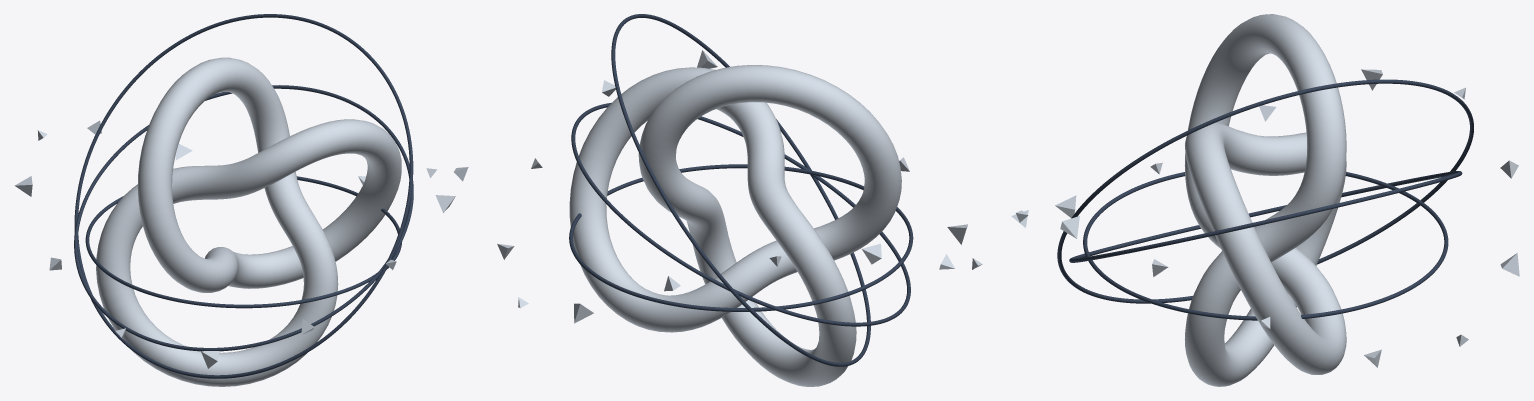
Rendered from atelier-core.glb.
3 renders of one model, left to right at view 1: azimuth 30°, elevation 25°; view 2: azimuth 150°, elevation 25°; view 3: azimuth 270°, elevation 25°, orthographic. The views are drawn at different scales.
Visible parts, largest first — view 1: knot, orbit-2, orbit-1, orbit-0, shards; view 2: knot, orbit-2, orbit-1, orbit-0, shards; view 3: knot, orbit-2, orbit-1, orbit-0, shards.
Part boxes in pixels (left/top/right/bottom): knot: left=96, top=57, right=401, bottom=386; orbit-2: left=74, top=14, right=413, bottom=378; orbit-1: left=74, top=85, right=413, bottom=351; orbit-0: left=85, top=176, right=401, bottom=308; shards: left=14, top=120, right=468, bottom=368; knot: left=569, top=65, right=901, bottom=386; orbit-2: left=611, top=14, right=870, bottom=366; orbit-1: left=571, top=102, right=910, bottom=326; orbit-0: left=569, top=164, right=913, bottom=311; shards: left=497, top=50, right=982, bottom=323; knot: left=1184, top=14, right=1346, bottom=386; orbit-2: left=1057, top=79, right=1473, bottom=303; orbit-1: left=1069, top=171, right=1462, bottom=262; orbit-0: left=1083, top=172, right=1448, bottom=320; shards: left=1011, top=69, right=1519, bottom=367.
Size of the model in its own units: 4.43 by 3.38 by 4.36.
